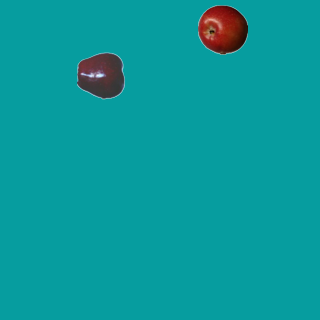Apple Braeburn: (197, 4, 247, 54)
Apple Red Delicious: (76, 50, 126, 100)
